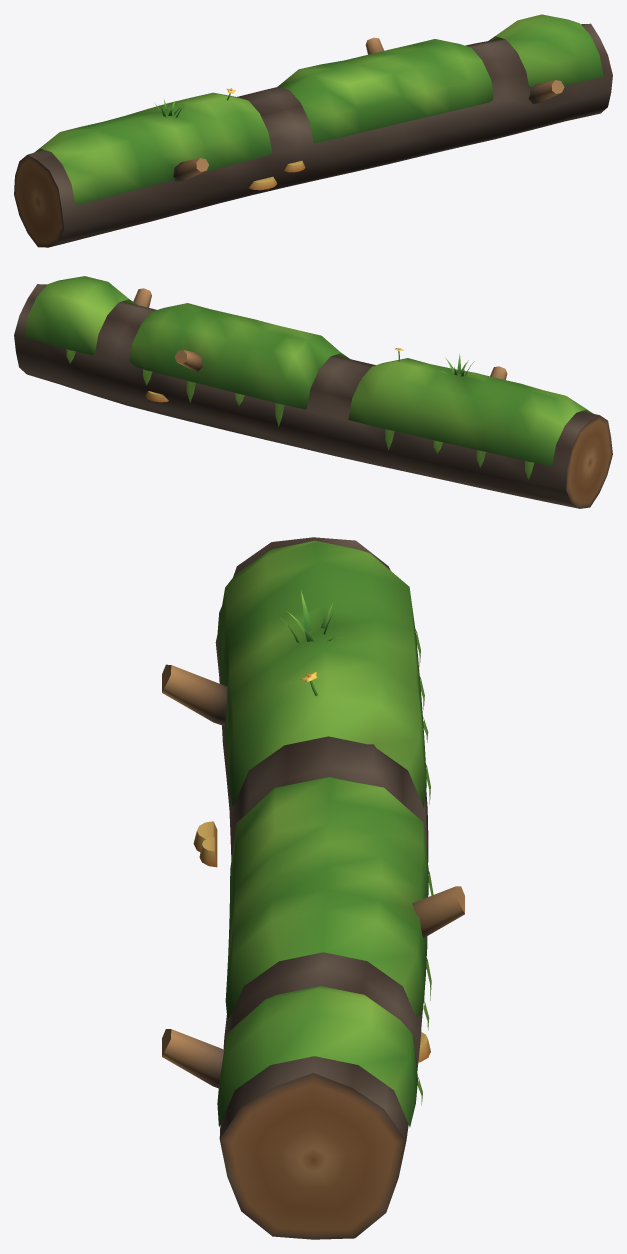
File: log_mountain.glb
3 renders of one model, top to bottom at view 1: azimuth 30°, elevation 25°; view 2: azimuth 150°, elevation 25°; view 3: azimuth 270°, elevation 25°, orthographic. The views are drawn at different scales.
Visible parts, largest first — view 1: log_mountain; view 2: log_mountain; view 3: log_mountain.
Boxes of the visible parts, x1=… form: log_mountain: x1=14, y1=14, x2=612, y2=247; log_mountain: x1=14, y1=276, x2=612, y2=508; log_mountain: x1=162, y1=537, x2=464, y2=1239.
Bounding box in the file's own units: 4 × 0.8092 × 0.95.
